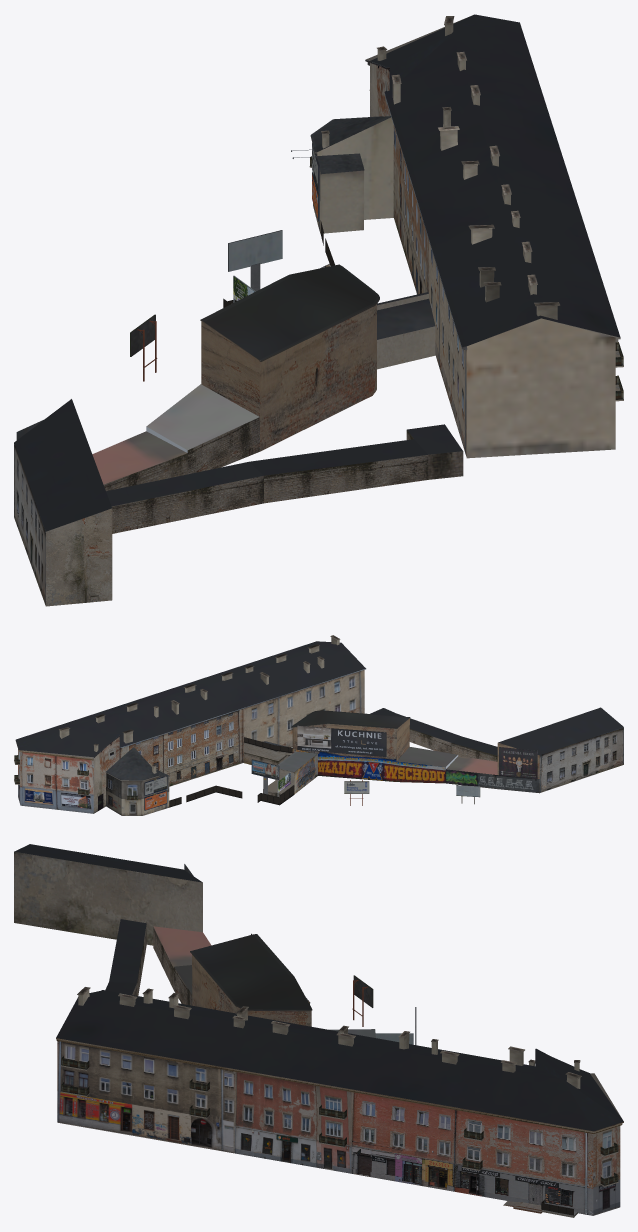
The model's file is obiekt1.glb.
3 views of the same model, one above another, from view 1: azimuth 30°, elevation 25°; view 2: azimuth 150°, elevation 25°; view 3: azimuth 270°, elevation 25° (orthographic). The views are drawn at different scales.
Parts seen in each view (by area): view 1: \1maja35-37; view 2: \1maja35-37; view 3: \1maja35-37.
Boxes of the visible parts, <box> form: \1maja35-37: <box>14,14,623,606</box>; \1maja35-37: <box>14,635,623,815</box>; \1maja35-37: <box>14,844,623,1217</box>.
Bounding box in the file's own units: 85.71 × 15.29 × 69.88.
4 materials, 3 textured.
